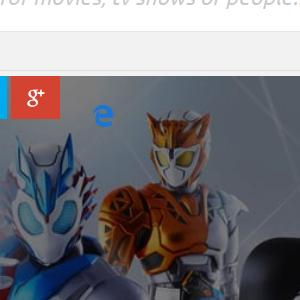edge: (92, 105, 115, 128)
